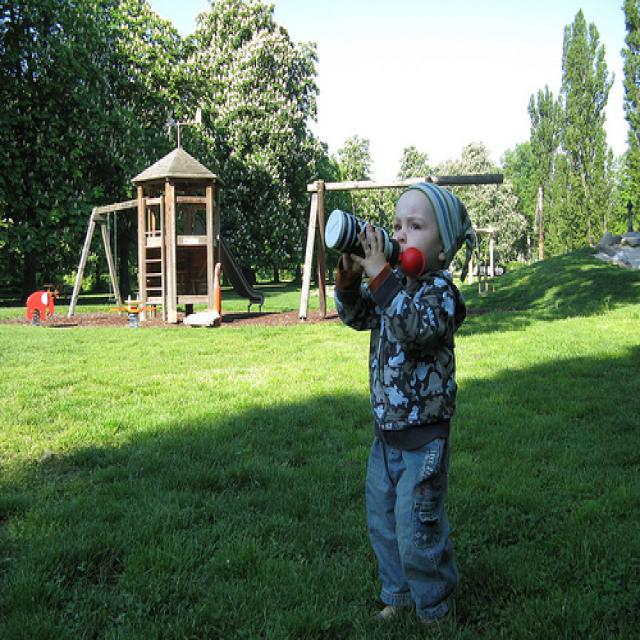person: (337, 182, 478, 631)
